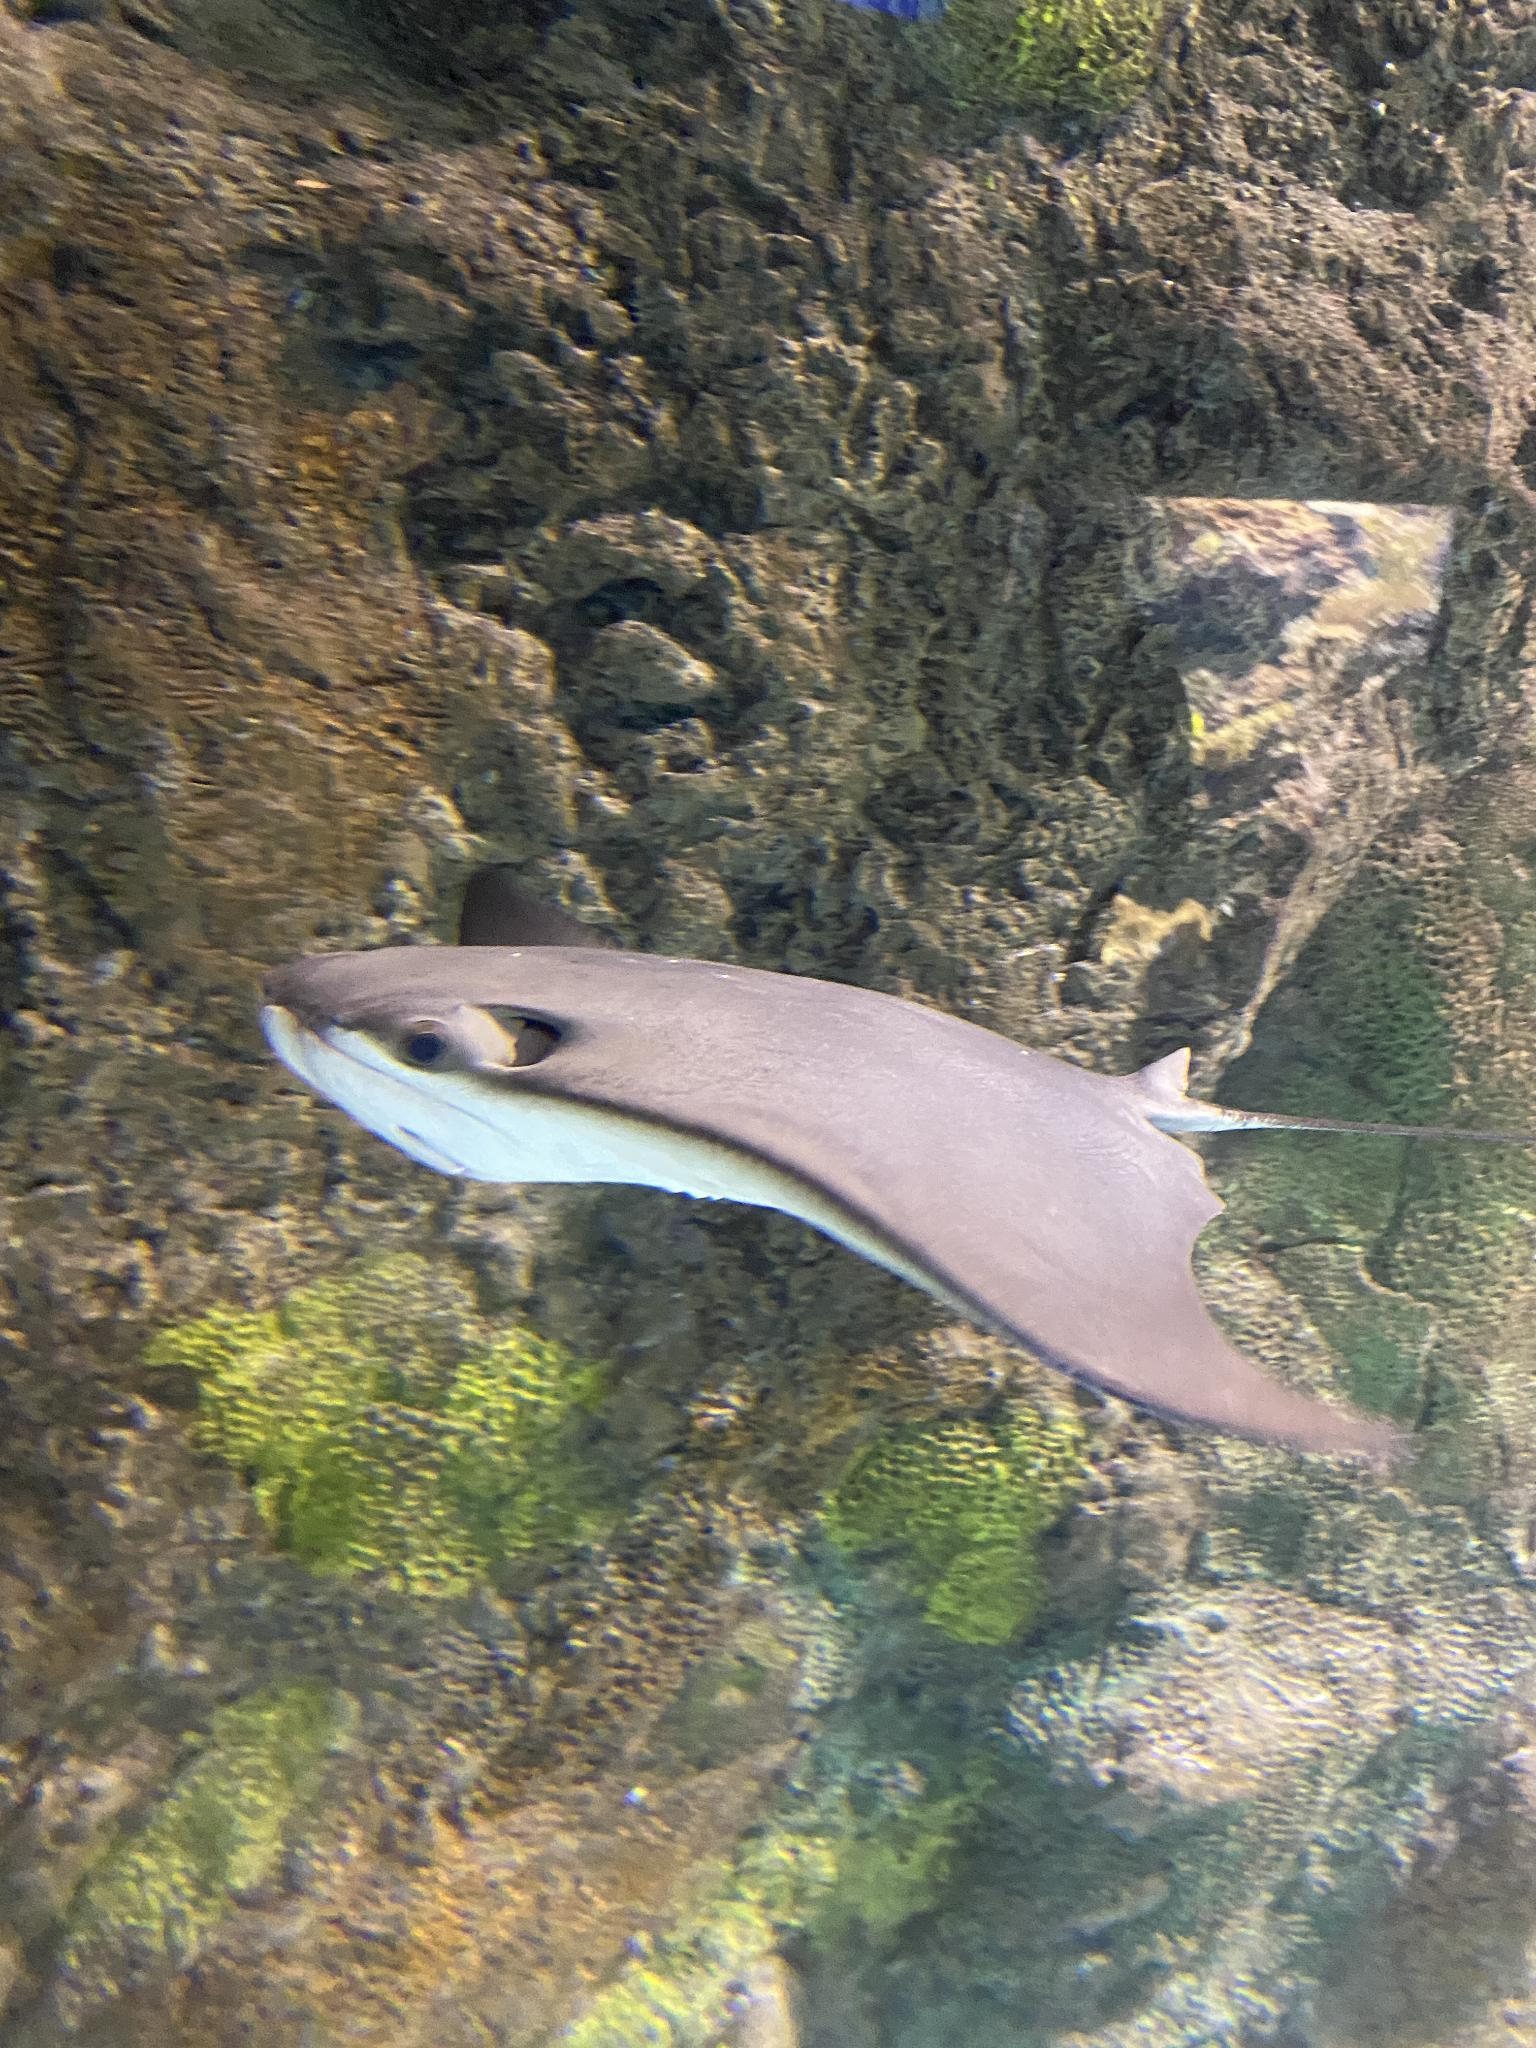stingray: (257, 940, 1388, 1471)
